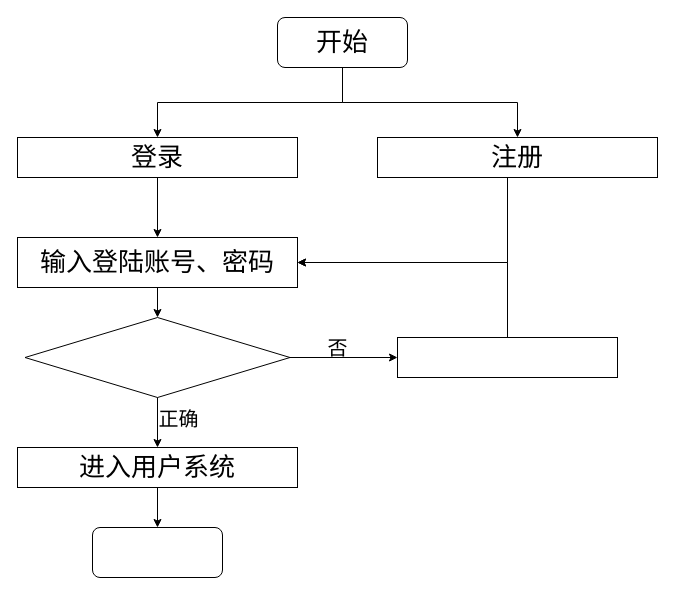
Some shapes in this 675 by 595 pixel diagram are drawn without their labels. The centre of each missing label's shape, as x and y in pixels:
"登陆信息有误" belongs at pixel 507 357.
"结束" belongs at pixel 157 552.
"账号密码验证" belongs at pixel 157 357.
